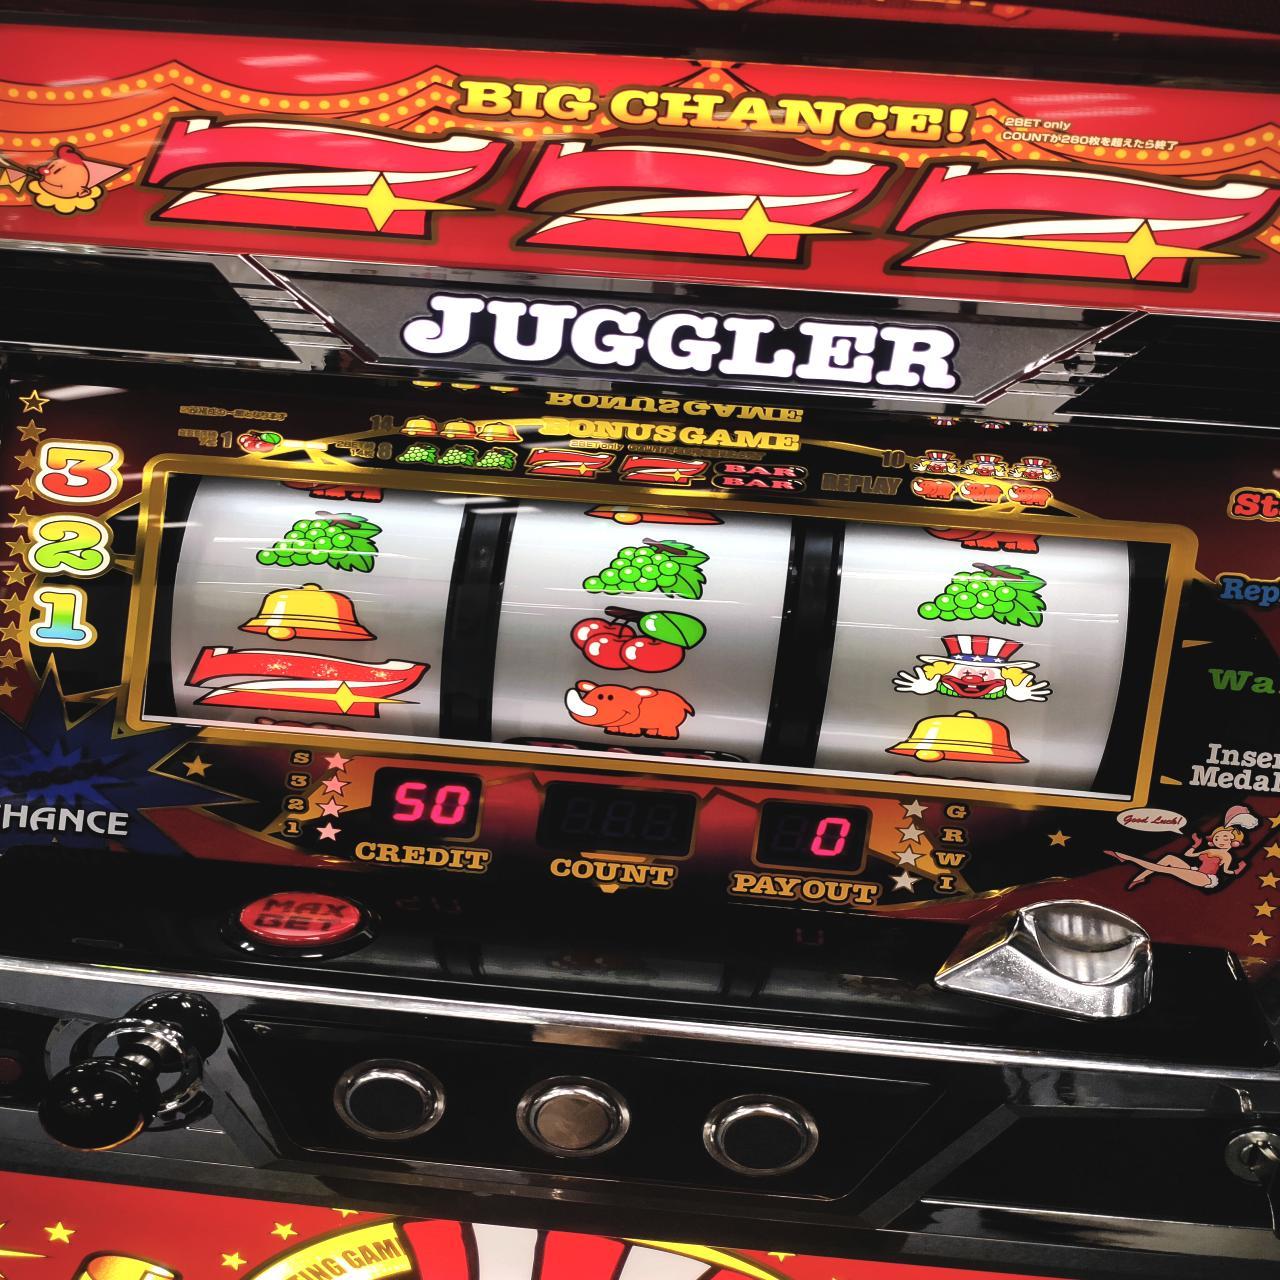7: (179, 644, 436, 719)
8: (563, 680, 694, 740)
Display: (161, 458, 1139, 804)
bell: (880, 710, 1030, 768), (236, 584, 381, 642)
cherry: (570, 605, 707, 670)
clown: (891, 634, 1055, 702)
grape: (911, 557, 1050, 629), (578, 538, 710, 600), (253, 511, 384, 573)
